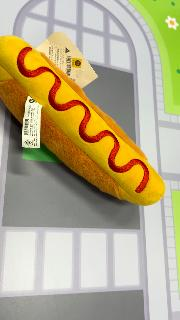hotdog: (2, 35, 166, 207)
